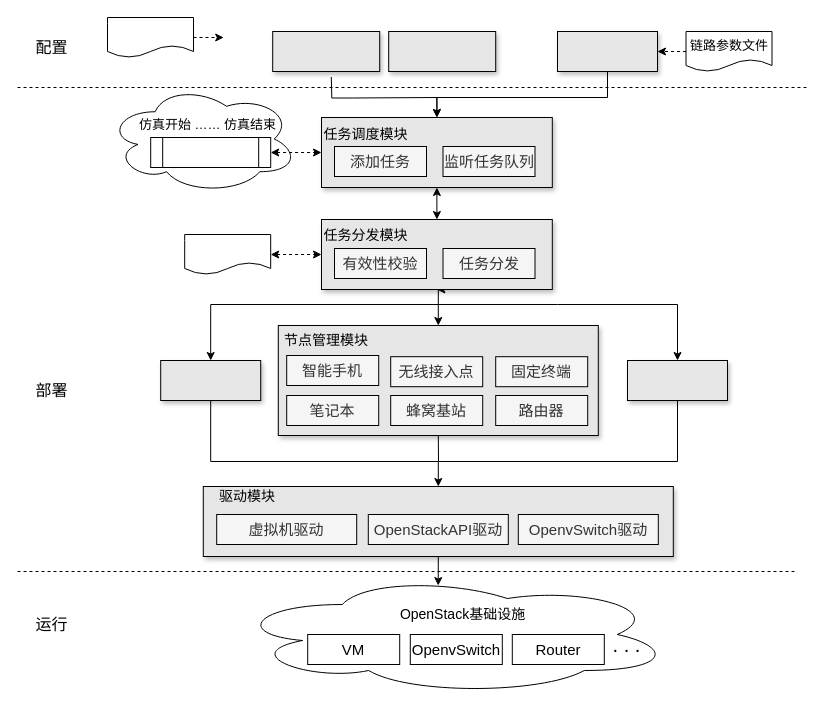
This 826x712 diagram has some shape labels left out. Each missing label, with the centre of its shape:
"MINDL文件" belongs at point (150, 37).
"MINDL解析模块" belongs at point (327, 52).
"任务队列" belongs at point (210, 152).
"子网管理模块" belongs at point (211, 382).
"联动管理模块" belongs at point (443, 52).
"节点状态文件" belongs at point (227, 254).
"链路状态 控制模块" belongs at point (678, 382).
"链路解析模块" belongs at point (608, 52).
